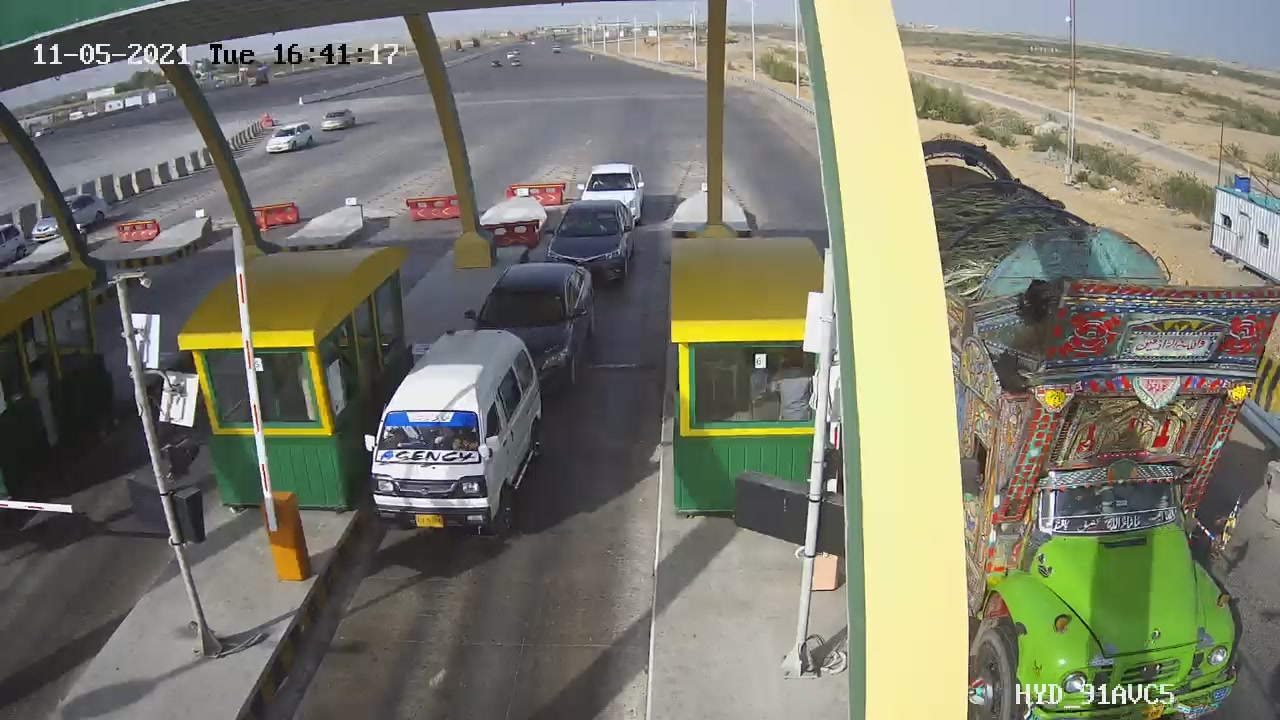F1: (350, 320, 565, 550), (537, 192, 655, 295)
